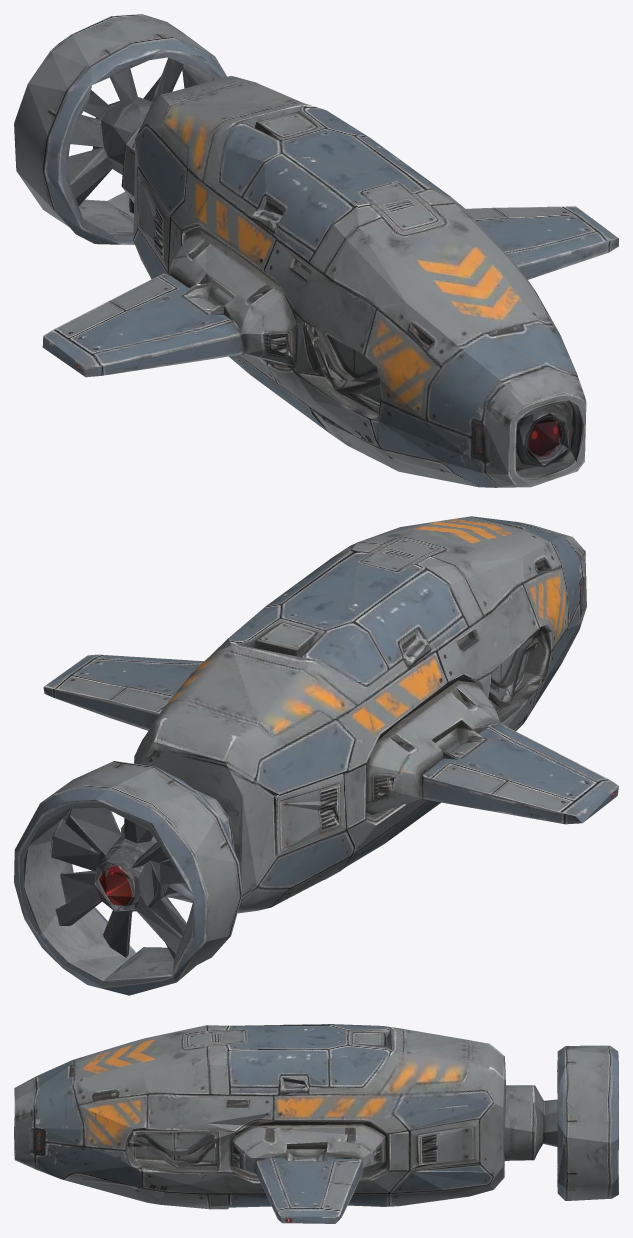
File: seeker-drone.glb
3 views of the same model, one above another, from view 1: azimuth 30°, elevation 25°; view 2: azimuth 150°, elevation 25°; view 3: azimuth 270°, elevation 25° (orthographic). The views are drawn at different scales.
Visible parts, largest first — view 1: Mesh_0; view 2: Mesh_0; view 3: Mesh_0.
Part boxes in pixels (box(x1,y1,x2,y2)): Mesh_0: box(14, 14, 618, 487); Mesh_0: box(14, 516, 618, 995); Mesh_0: box(14, 1024, 618, 1223).
Size of the model in its own units: 0.2383 by 0.0988 by 0.34.
1 material, 1 textured.
